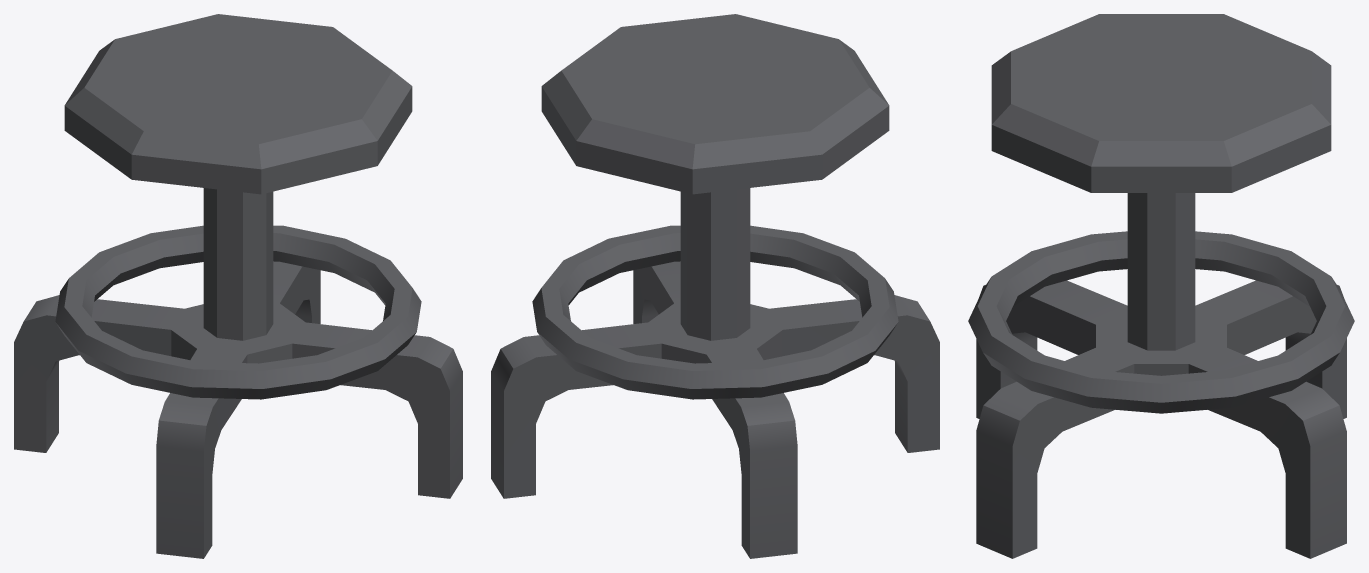
Rendered from stool-short.fbx.
The picture shows the model from 3 angles, left to right: view 1: azimuth 30°, elevation 25°; view 2: azimuth 150°, elevation 25°; view 3: azimuth 270°, elevation 25°; orthographic projection. The views are drawn at different scales.
Visible parts, largest first — view 1: stool_short; view 2: stool_short; view 3: stool_short.
Boxes of the visible parts, x1=… form: stool_short: x1=14, y1=14, x2=462, y2=558; stool_short: x1=491, y1=14, x2=939, y2=558; stool_short: x1=968, y1=14, x2=1354, y2=558.
Size of the model in its own units: 51 by 58.66 by 51.
